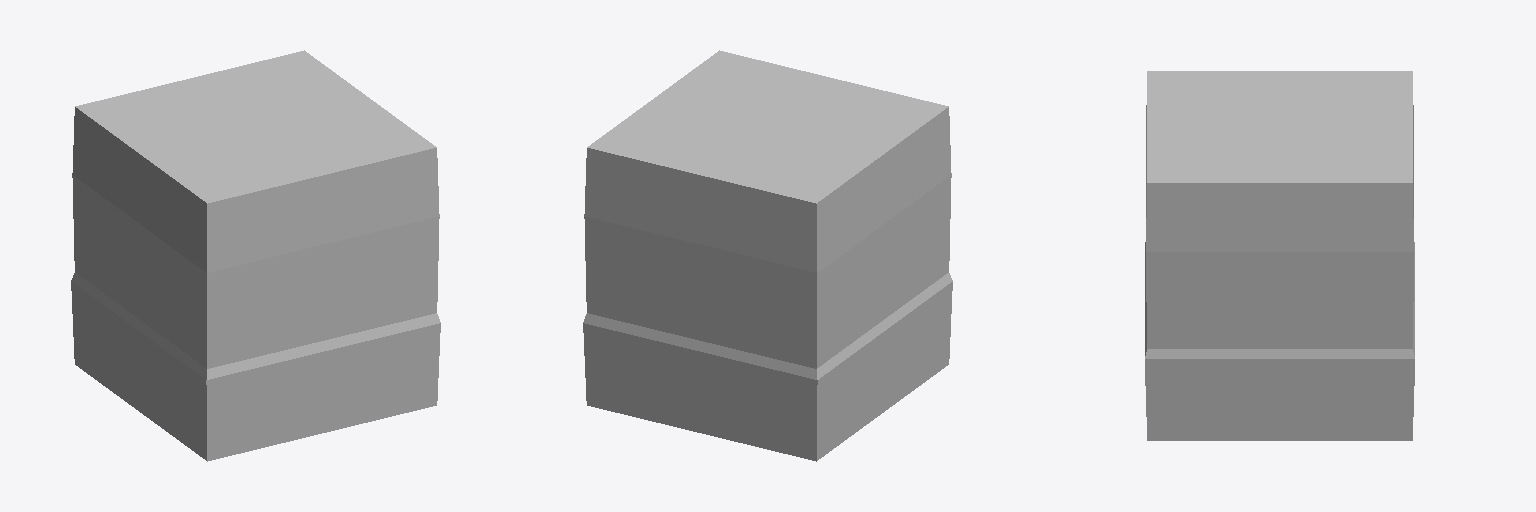
File: soloFat.obj
The picture shows the model from 3 angles: view 1: azimuth 30°, elevation 25°; view 2: azimuth 150°, elevation 25°; view 3: azimuth 270°, elevation 25°; orthographic projection.
Bounding box in the file's own units: 0.9515 × 1 × 0.9515.